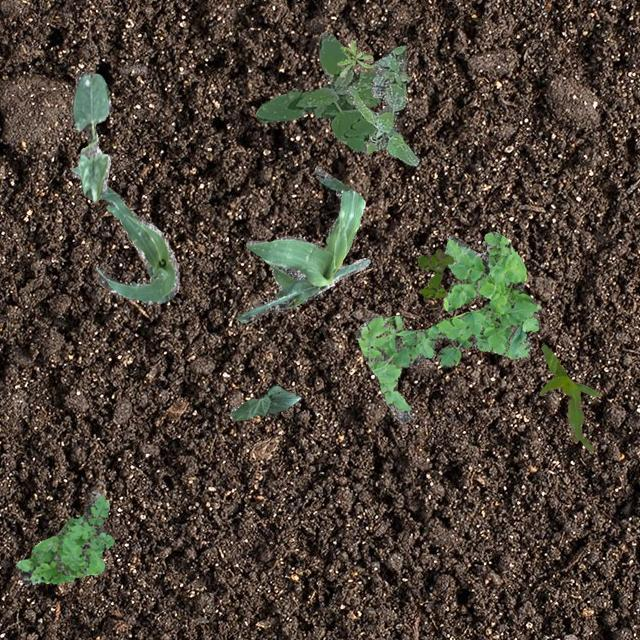crop: (236, 166, 368, 322), (69, 166, 177, 302), (538, 344, 598, 449), (70, 70, 110, 202), (228, 384, 300, 419)
weed: (356, 230, 540, 422), (255, 31, 382, 150), (15, 489, 114, 584), (347, 44, 418, 166), (417, 248, 452, 298), (336, 38, 374, 76)
